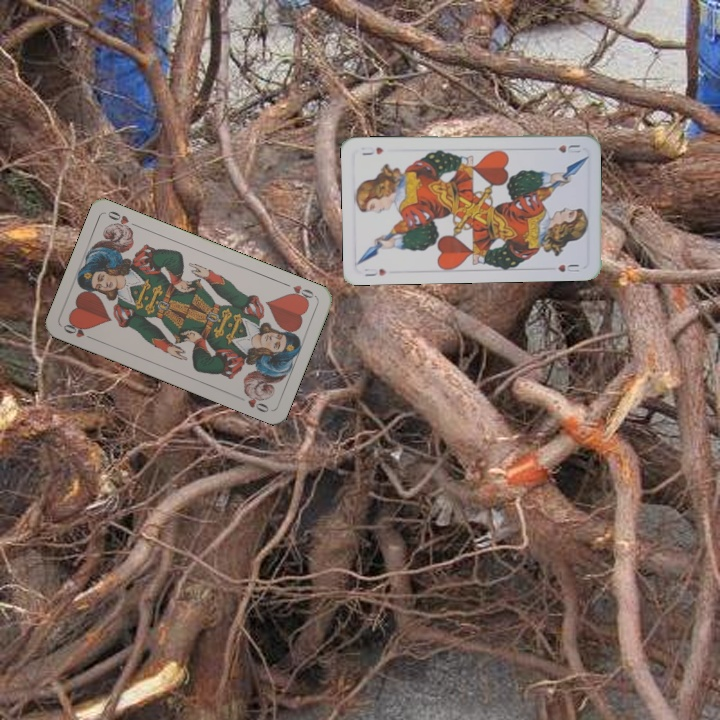HO: (279, 278, 318, 304), (59, 318, 97, 343)
HU: (361, 264, 389, 279), (554, 141, 583, 155)
